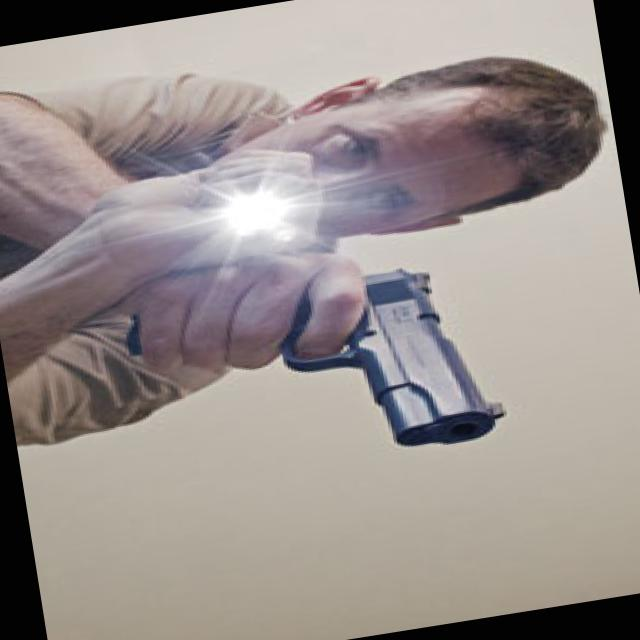handgun: (116, 238, 523, 495)
